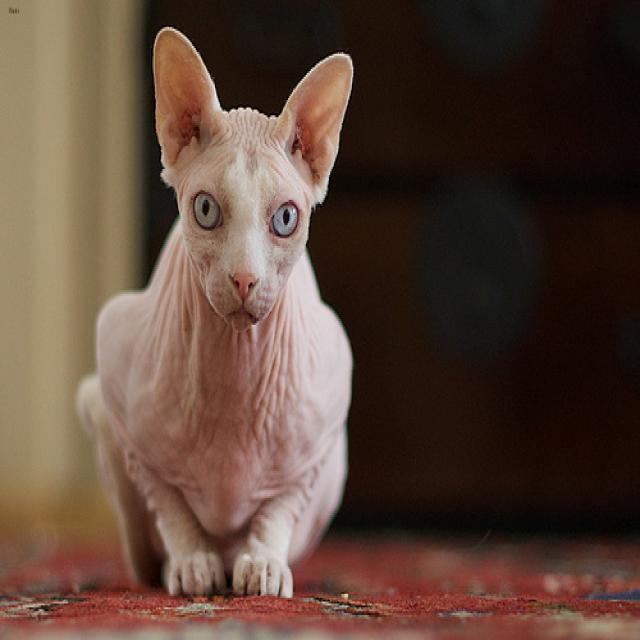Sphynx: (151, 23, 352, 327)
